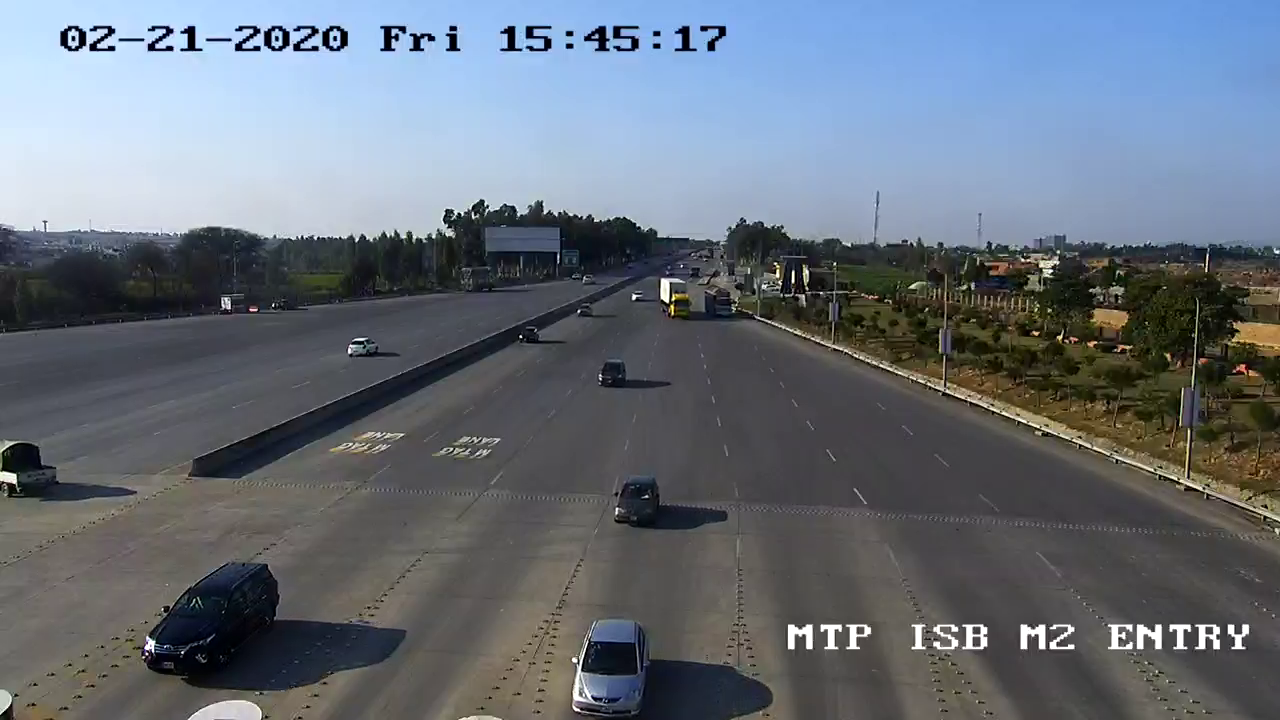f1: (134, 554, 288, 683), (563, 608, 654, 718), (609, 472, 669, 537), (591, 354, 637, 397)
